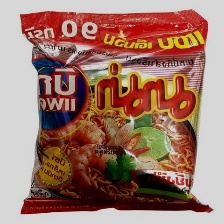snack: (12, 2, 219, 221)
